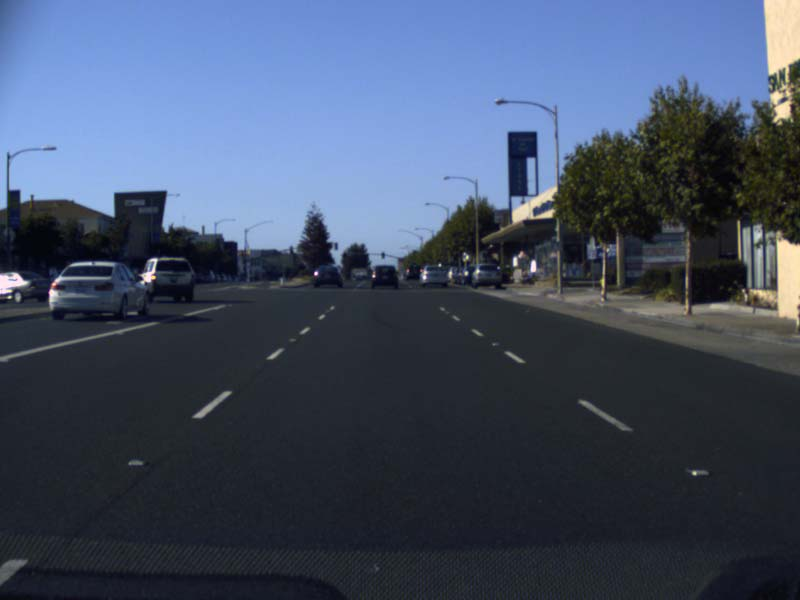Red: (343, 250, 346, 256)
